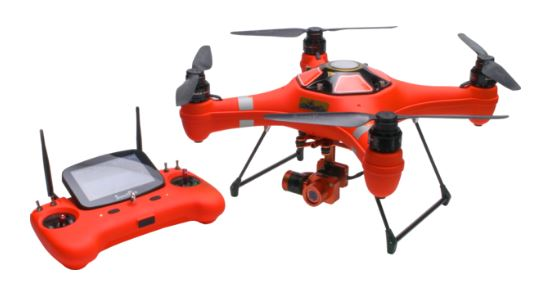drone: (172, 20, 526, 257)
